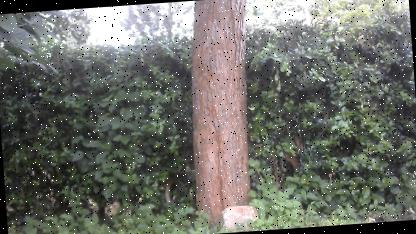tree: (178, 0, 265, 229)
